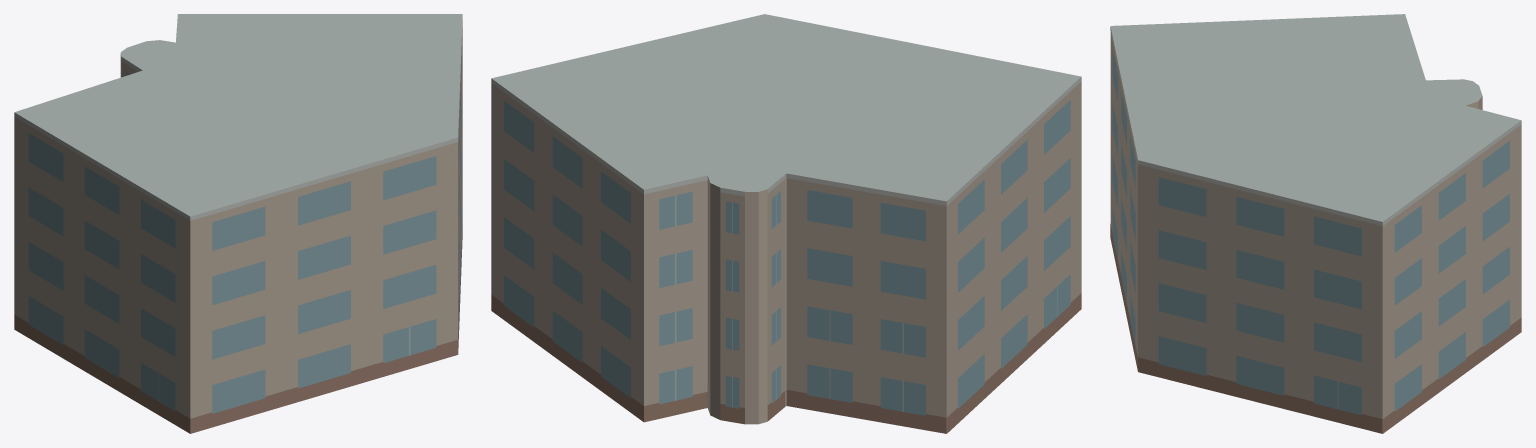
Rendered from survey-upis-32670695.glb.
3 views of the same model, side by side, from view 1: azimuth 30°, elevation 25°; view 2: azimuth 150°, elevation 25°; view 3: azimuth 270°, elevation 25° (orthographic). The views are drawn at different scales.
Parts seen in each view (by area): view 1: survey-upis-32670695.tmp; view 2: survey-upis-32670695.tmp; view 3: survey-upis-32670695.tmp.
Boxes of the visible parts, left/top/right/bottom form: survey-upis-32670695.tmp: left=14, top=14, right=462, bottom=433; survey-upis-32670695.tmp: left=491, top=14, right=1081, bottom=433; survey-upis-32670695.tmp: left=1110, top=14, right=1521, bottom=433.
Bounding box in the file's own units: 25.69 × 12.2 × 21.46.
